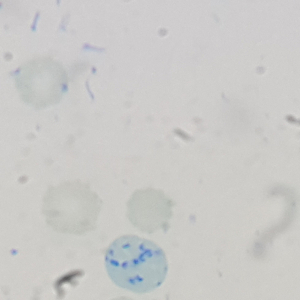aggregate reticulocyte: (103, 233, 171, 295)
erythrocyte: (40, 179, 105, 236), (11, 56, 71, 111), (124, 185, 177, 236)
